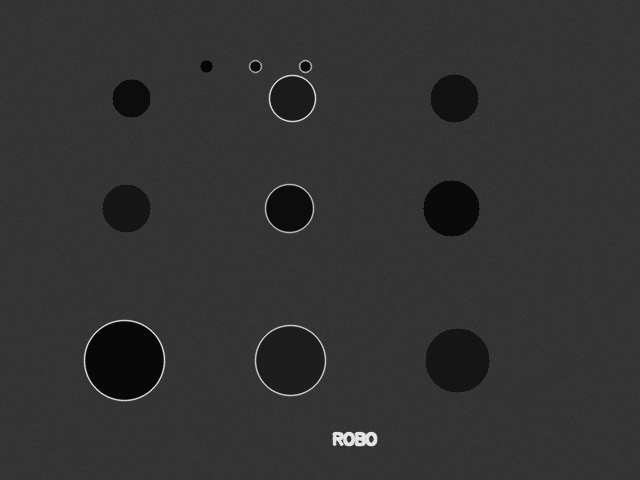hole: (84, 320, 164, 400), (255, 325, 325, 395), (425, 328, 489, 392), (423, 180, 479, 236), (430, 74, 478, 122), (102, 184, 150, 232), (265, 184, 313, 232), (269, 75, 315, 121), (112, 79, 150, 117), (200, 60, 212, 72), (249, 60, 261, 72), (299, 60, 311, 72)
